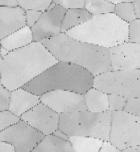good_void: (76, 122, 82, 127), (47, 36, 51, 41), (68, 61, 72, 66), (122, 54, 126, 58), (134, 120, 138, 124), (124, 141, 128, 145), (136, 76, 139, 81), (77, 15, 80, 19)
